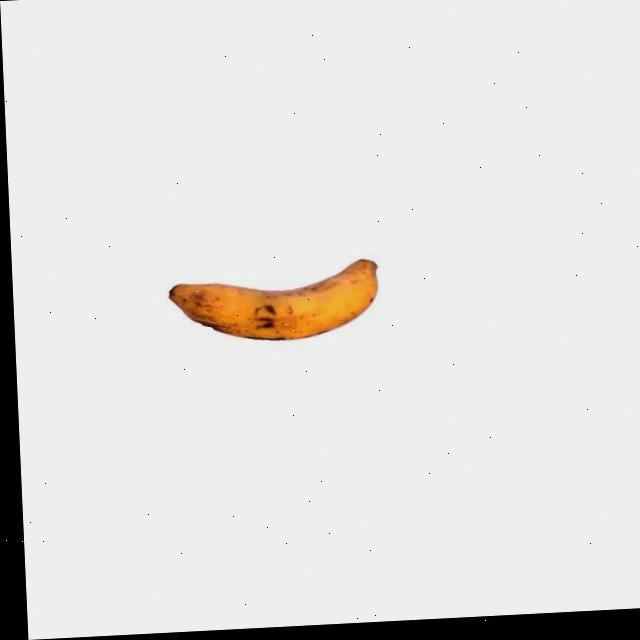banana: (163, 255, 385, 348)
